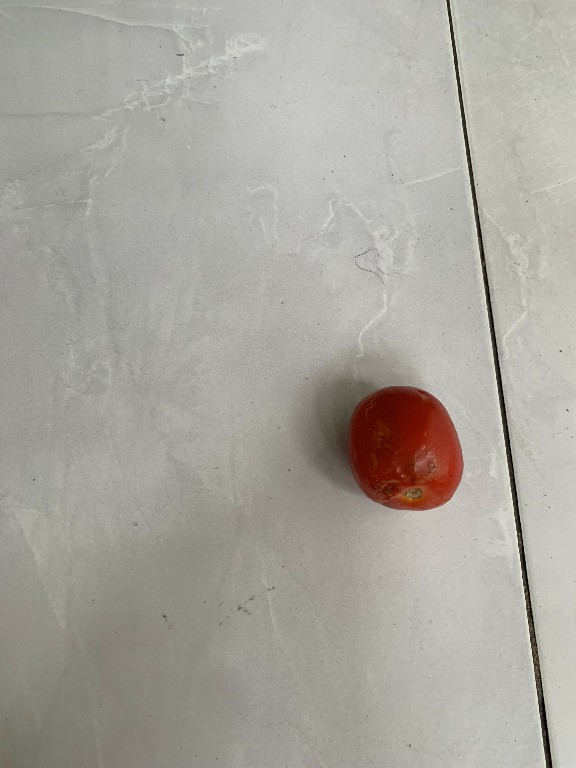NG: (340, 381, 466, 515)
